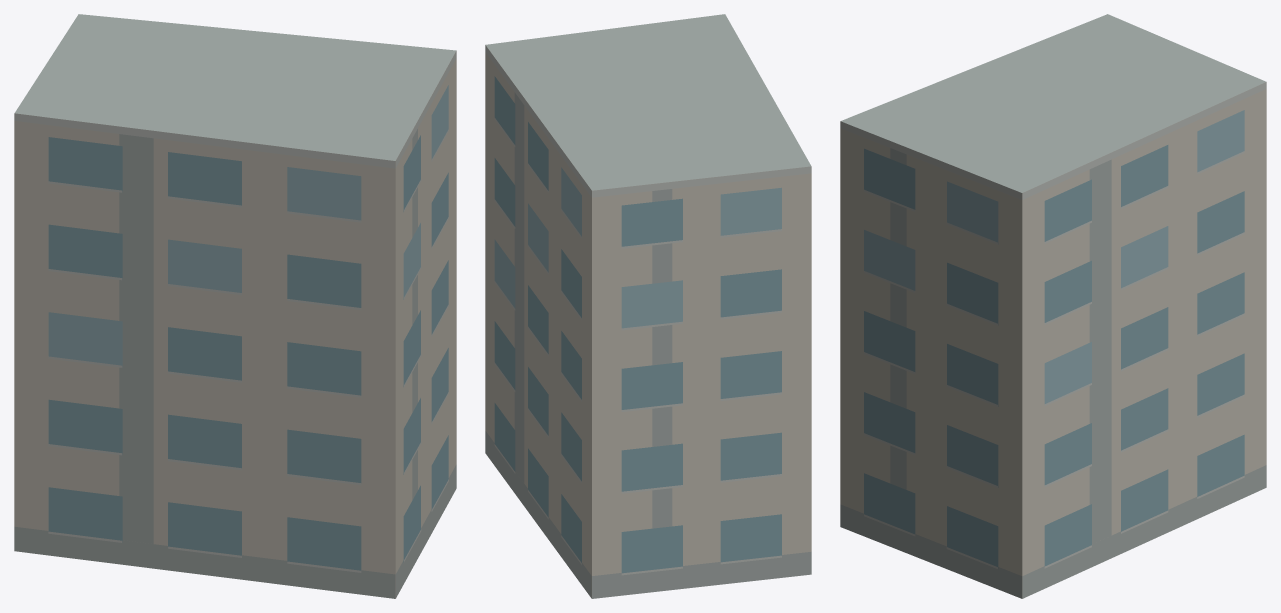
File: survey-upis-32463710.glb
The picture shows the model from 3 angles, left to right: view 1: azimuth 30°, elevation 25°; view 2: azimuth 150°, elevation 25°; view 3: azimuth 270°, elevation 25°; orthographic projection. The views are drawn at different scales.
Parts seen in each view (by area): view 1: survey-upis-32463710.tmp; view 2: survey-upis-32463710.tmp; view 3: survey-upis-32463710.tmp.
Part boxes in pixels (<box>): survey-upis-32463710.tmp: <box>14,14,456,598</box>; survey-upis-32463710.tmp: <box>485,14,811,598</box>; survey-upis-32463710.tmp: <box>840,14,1266,598</box>.
Bounding box in the file's own units: 13.36 × 14.1 × 13.43.
